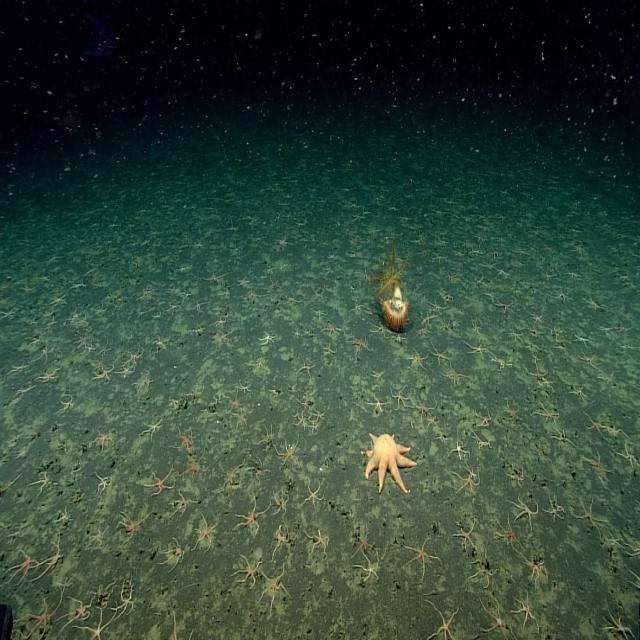brittle-stars: (19, 592, 61, 640), (478, 596, 508, 638), (426, 600, 457, 640), (574, 492, 602, 536), (405, 538, 433, 578), (261, 564, 288, 605), (605, 601, 634, 639), (63, 593, 94, 627), (236, 498, 266, 532), (511, 493, 537, 530), (233, 554, 260, 586), (10, 549, 34, 584), (41, 539, 63, 577), (90, 608, 116, 640), (513, 594, 536, 630), (161, 536, 184, 571), (118, 511, 142, 544), (472, 552, 496, 584), (496, 519, 520, 551), (195, 514, 215, 551), (146, 467, 171, 496), (118, 580, 138, 616), (306, 529, 329, 559), (221, 463, 243, 492), (277, 438, 299, 466), (454, 524, 476, 552), (359, 552, 379, 582), (454, 470, 479, 494), (181, 455, 203, 482), (534, 401, 558, 425), (585, 448, 605, 476), (172, 488, 192, 515), (544, 495, 564, 522), (524, 558, 544, 584), (304, 479, 323, 506), (140, 417, 162, 440), (448, 435, 467, 461), (93, 472, 111, 498), (38, 364, 61, 384), (390, 386, 410, 409), (175, 428, 194, 452), (413, 395, 432, 419), (408, 347, 427, 370), (585, 411, 601, 438), (31, 470, 52, 490), (274, 525, 289, 553), (92, 364, 114, 383), (463, 340, 486, 358), (507, 462, 524, 486), (442, 365, 462, 385), (93, 429, 114, 448), (356, 529, 372, 553), (431, 343, 449, 364), (260, 428, 275, 453), (89, 526, 106, 548), (125, 344, 143, 364), (273, 492, 288, 516), (138, 371, 154, 393), (571, 382, 587, 404), (472, 432, 491, 450), (475, 407, 491, 428), (622, 443, 637, 465), (292, 410, 308, 430), (91, 302, 108, 320), (493, 296, 512, 312), (60, 573, 75, 593), (236, 408, 251, 428), (504, 401, 520, 419), (369, 396, 387, 412), (372, 322, 390, 338), (352, 333, 368, 351), (40, 342, 54, 362), (227, 390, 241, 410), (96, 338, 112, 355), (580, 351, 596, 367), (574, 331, 590, 347), (320, 339, 336, 355), (11, 359, 28, 374), (607, 529, 621, 547), (244, 287, 262, 301), (56, 507, 69, 526), (554, 283, 567, 302), (528, 365, 544, 380), (118, 365, 135, 379), (69, 305, 83, 321), (529, 324, 543, 340), (469, 318, 483, 334), (492, 354, 506, 370), (260, 331, 276, 345), (50, 292, 68, 304), (71, 277, 86, 291), (510, 328, 524, 343), (285, 290, 299, 305), (255, 354, 266, 372), (542, 376, 555, 391), (430, 299, 443, 314), (194, 300, 206, 316), (481, 260, 497, 272), (608, 420, 619, 437), (167, 300, 180, 314), (313, 408, 326, 422), (313, 305, 327, 318), (426, 413, 438, 428), (215, 314, 226, 330), (309, 419, 320, 435), (77, 330, 87, 347), (141, 285, 154, 298), (238, 381, 252, 393), (167, 283, 179, 297), (532, 312, 544, 326), (422, 312, 434, 326), (470, 246, 485, 257), (566, 269, 579, 281), (237, 276, 250, 288), (169, 396, 180, 410), (467, 467, 478, 480), (442, 289, 453, 302), (299, 397, 310, 410), (268, 277, 279, 290), (86, 340, 96, 353), (454, 247, 466, 257), (396, 334, 406, 344), (292, 328, 302, 338), (195, 239, 203, 251)
